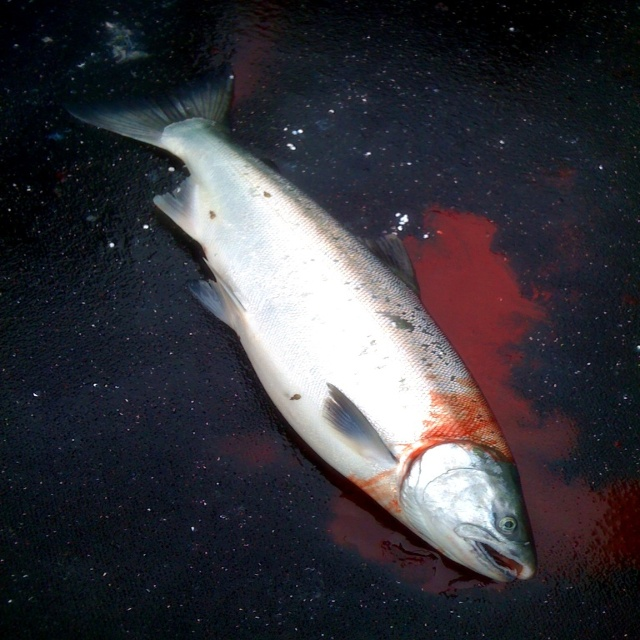Fish: (118, 132, 538, 636)
